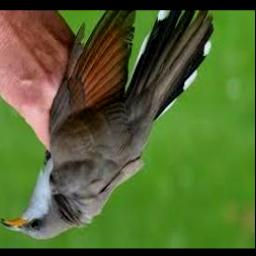Cuckoo: (1, 11, 215, 240)
